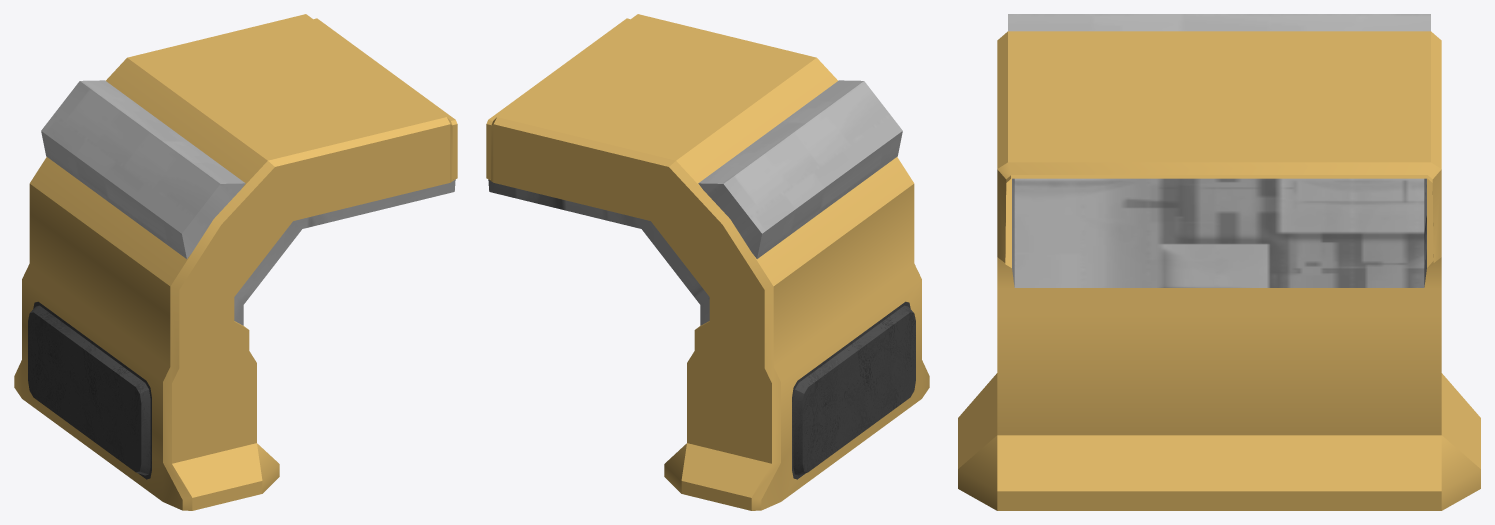
Rendered from side_holder_pipe.fbx.
3 views of the same model, side by side, from view 1: azimuth 30°, elevation 25°; view 2: azimuth 150°, elevation 25°; view 3: azimuth 270°, elevation 25° (orthographic). The views are drawn at different scales.
Parts seen in each view (by area): view 1: side_holder_pipe; view 2: side_holder_pipe; view 3: side_holder_pipe.
Part boxes in pixels (box(x1,y1,x2,y2)): side_holder_pipe: box(14, 14, 457, 510); side_holder_pipe: box(486, 14, 929, 510); side_holder_pipe: box(958, 14, 1480, 510).
Bounding box in the file's own units: 200 × 200 × 200.
